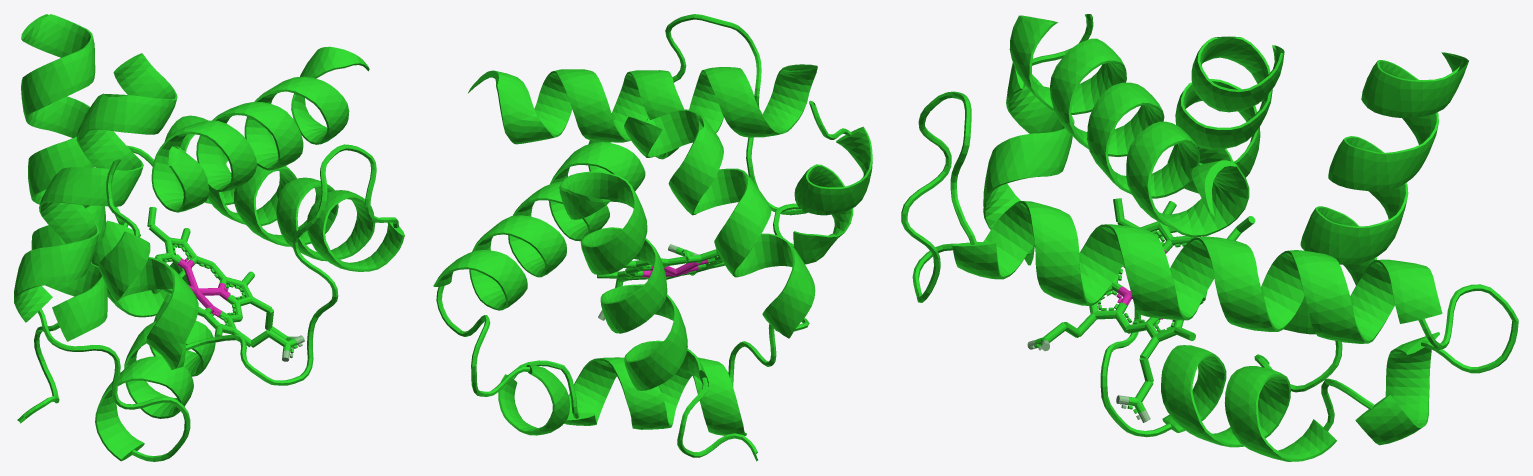
File: 13na2-cut (1).fbx
3 renders of one model, left to right at view 1: azimuth 30°, elevation 25°; view 2: azimuth 150°, elevation 25°; view 3: azimuth 270°, elevation 25°, orthographic. The views are drawn at different scales.
Visible parts, largest first — view 1: 1a3n2; view 2: 1a3n2; view 3: 1a3n2.
Part boxes in pixels (bbox=[...]): 1a3n2: bbox=[14, 14, 404, 461]; 1a3n2: bbox=[433, 14, 872, 461]; 1a3n2: bbox=[901, 14, 1518, 461].
Size of the model in its own units: 2812 by 2671 by 3633.
